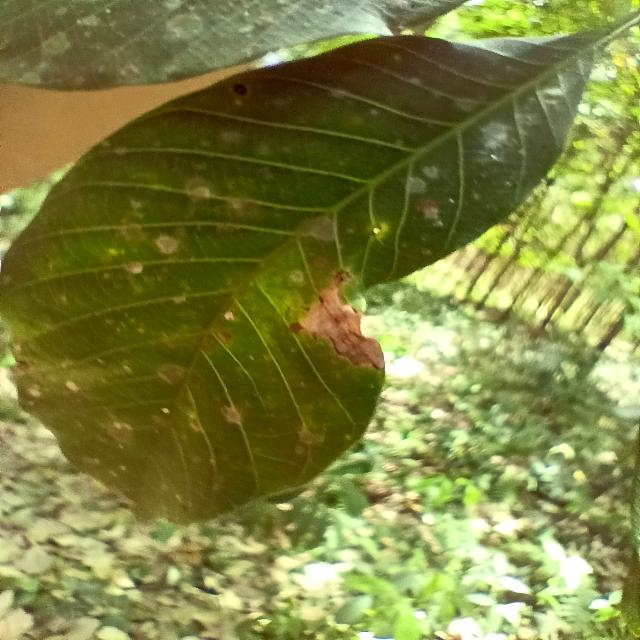Leaf-Blight: (296, 282, 384, 370)
